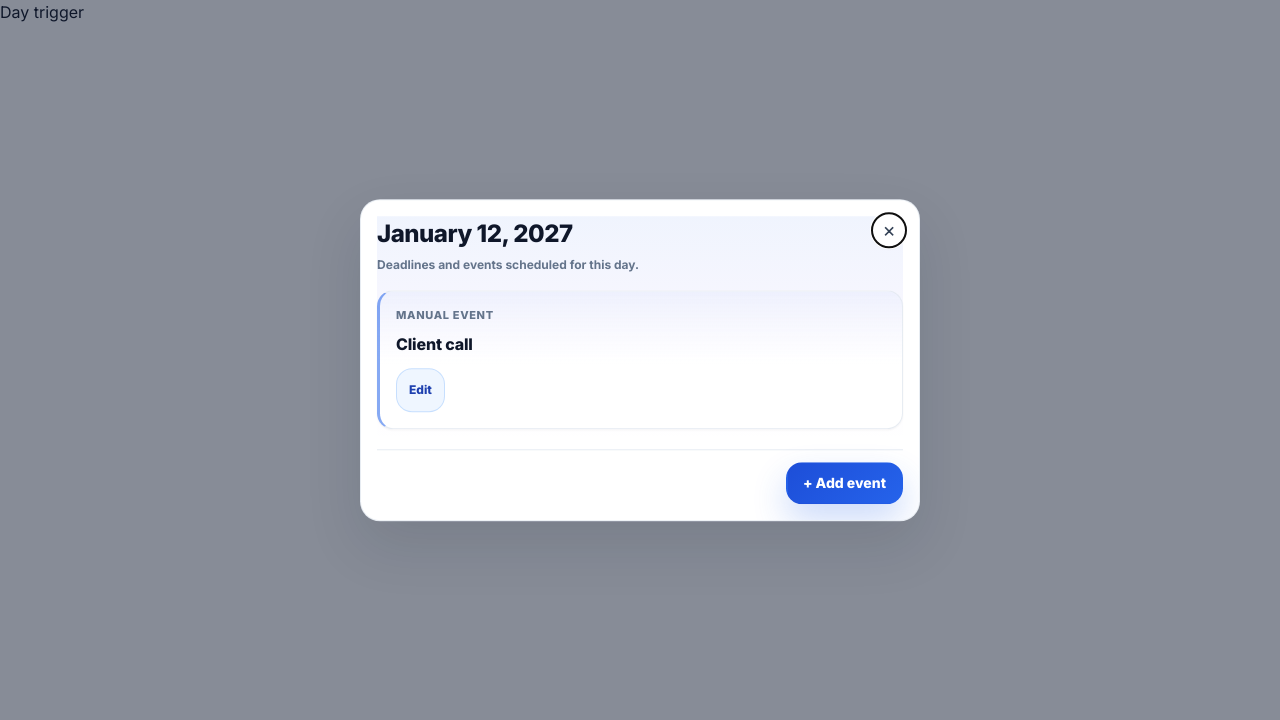
Test: CalendarDayDialog — day-to-edit/create mode transition, single dialog instance › switching from day view to edit view keeps exactly one dialog/backdrop mounted and refocuses Title
Check: the dialog "January 12, 2027" is shown, box 360,199 -> 920,521
Click the button with aria-label "Edit Client call": point(420, 390) 396,368 -> 445,412
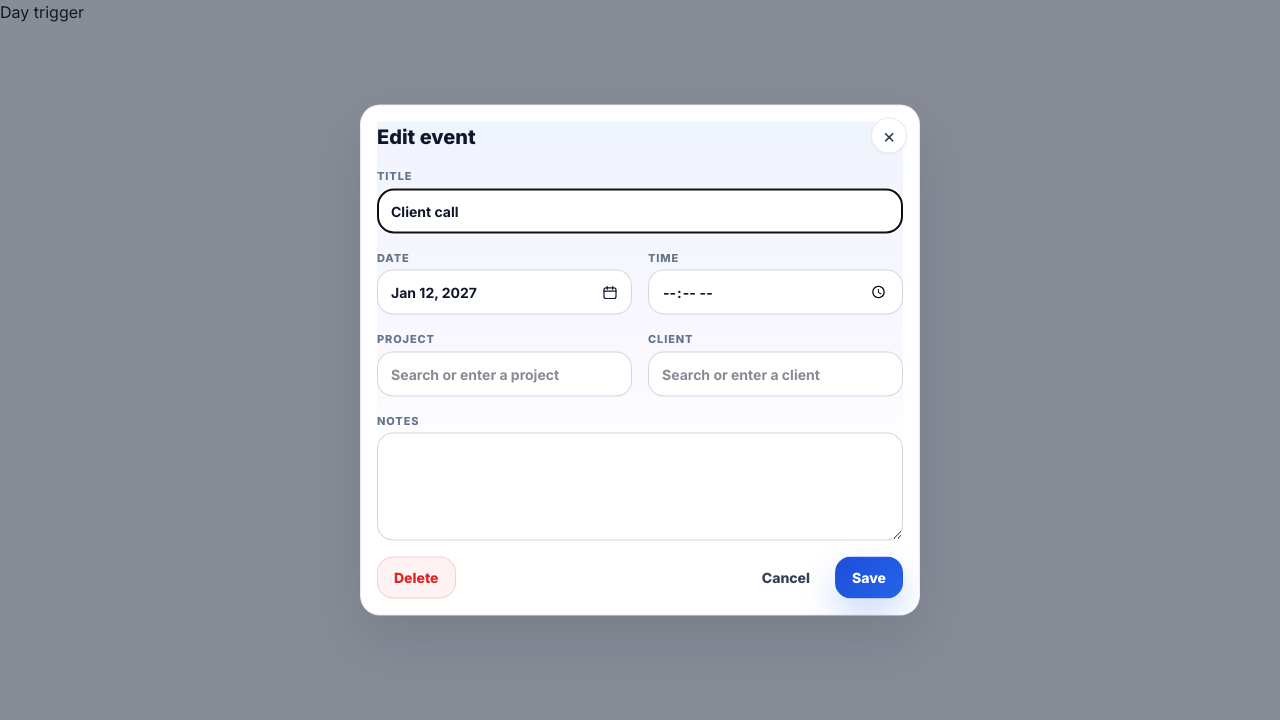
Check: the dialog "Edit event" is shown, box 360,104 -> 920,616
Check: the heading "January 12, 2027" is gone
